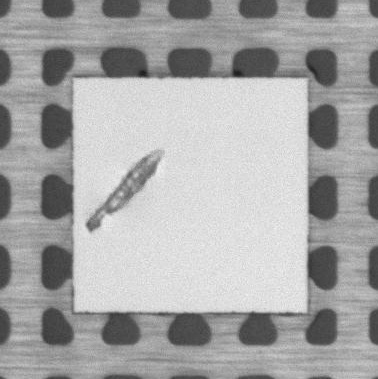DIE_INK: (85, 151, 164, 232)
